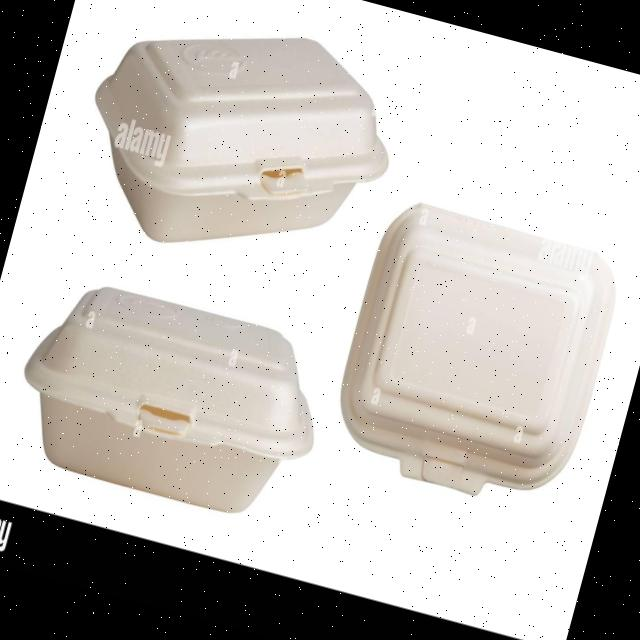styrofoam: (61, 0, 415, 294), (320, 190, 630, 520), (1, 268, 340, 532)
